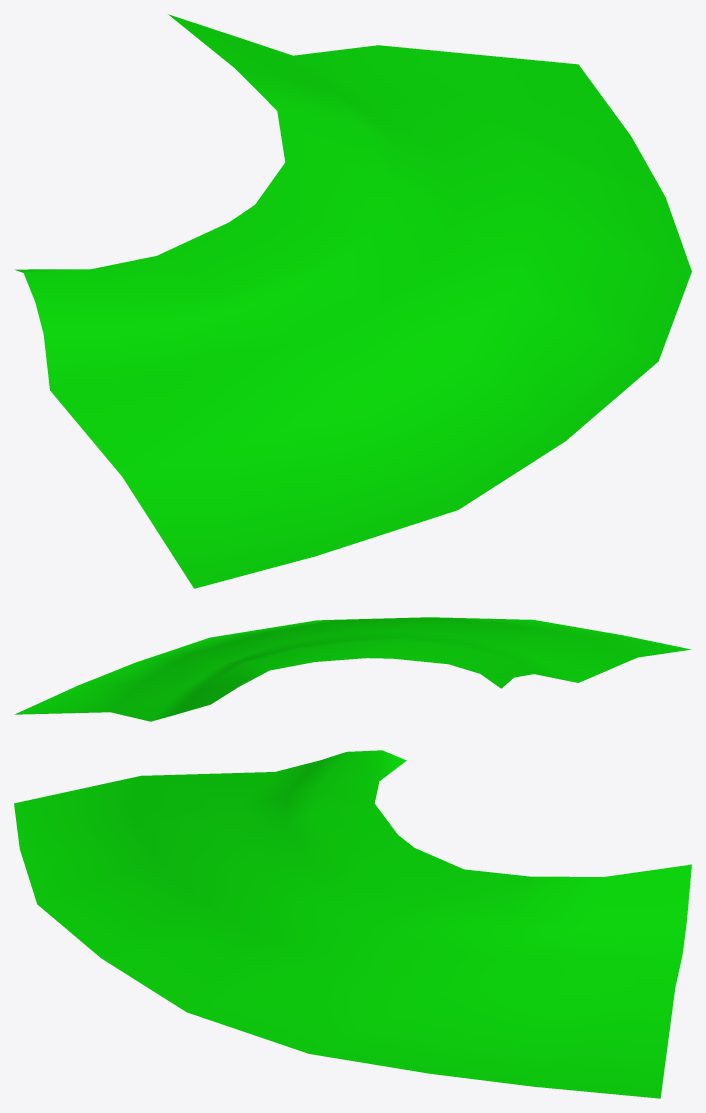
The model's file is ShorelineCave.glb.
3 renders of one model, top to bottom at view 1: azimuth 30°, elevation 25°; view 2: azimuth 150°, elevation 25°; view 3: azimuth 270°, elevation 25°, orthographic. The views are drawn at different scales.
Parts seen in each view (by area): view 1: ShorelineCave; view 2: ShorelineCave; view 3: ShorelineCave.
Boxes of the visible parts, x1=… form: ShorelineCave: x1=15, y1=14, x2=691, y2=588; ShorelineCave: x1=14, y1=617, x2=691, y2=721; ShorelineCave: x1=14, y1=750, x2=691, y2=1098.
Size of the model in its own units: 20 by 3.02 by 19.41.
